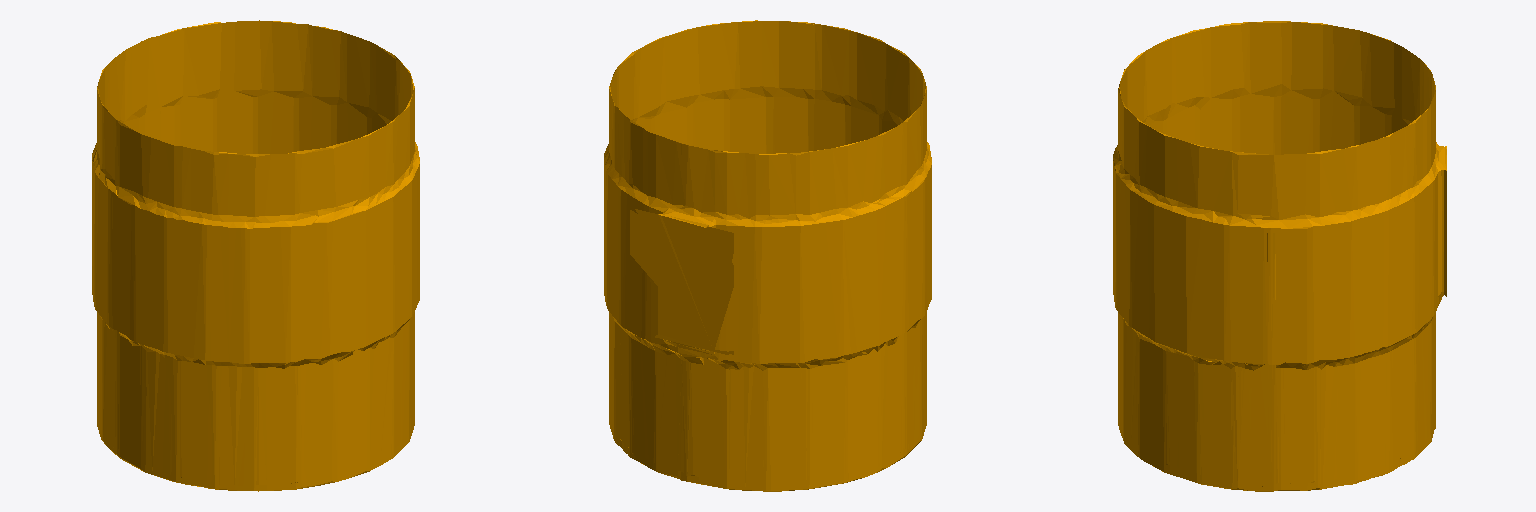
robot.urdf — test_single_mesh:
<?xml version="1.0"?>
<robot name="test_single_mesh">
  <link name="my_mesh">
    <inertial>
      <mass value="1"/>
      <inertia ixx="1" ixy="0" ixz="0" iyy="1" iyz="0" izz="1"/>
    </inertial>
    <visual>
      <geometry>
        <mesh filename="cup.obj"/>
      </geometry>
    </visual>
    <collision>
      <geometry>
        <mesh filename="cup.obj"/>
      </geometry>
    </collision>
  </link>
</robot>

--- What the picture shows (computed from the rendered views, not written in the file) ---
3 views of the same robot in one strip: view 1: azimuth 30°, elevation 25°; view 2: azimuth 150°, elevation 25°; view 3: azimuth 270°, elevation 25° (orthographic).
Model test_single_mesh with 1 links and 0 joints (none), rooted at my_mesh, posed every joint at zero.
Visible links, largest first — view 1: my_mesh; view 2: my_mesh; view 3: my_mesh.
Boxes of the visible links, <box> form: my_mesh: <box>92,20,419,491</box>; my_mesh: <box>604,20,931,491</box>; my_mesh: <box>1113,21,1446,491</box>.
Bounding box of the posed robot: 1364 × 1386 × 1551 m (x, y, z).
Meshes: 1 distinct files referenced, 1 mesh visuals loaded (1 OBJ).
